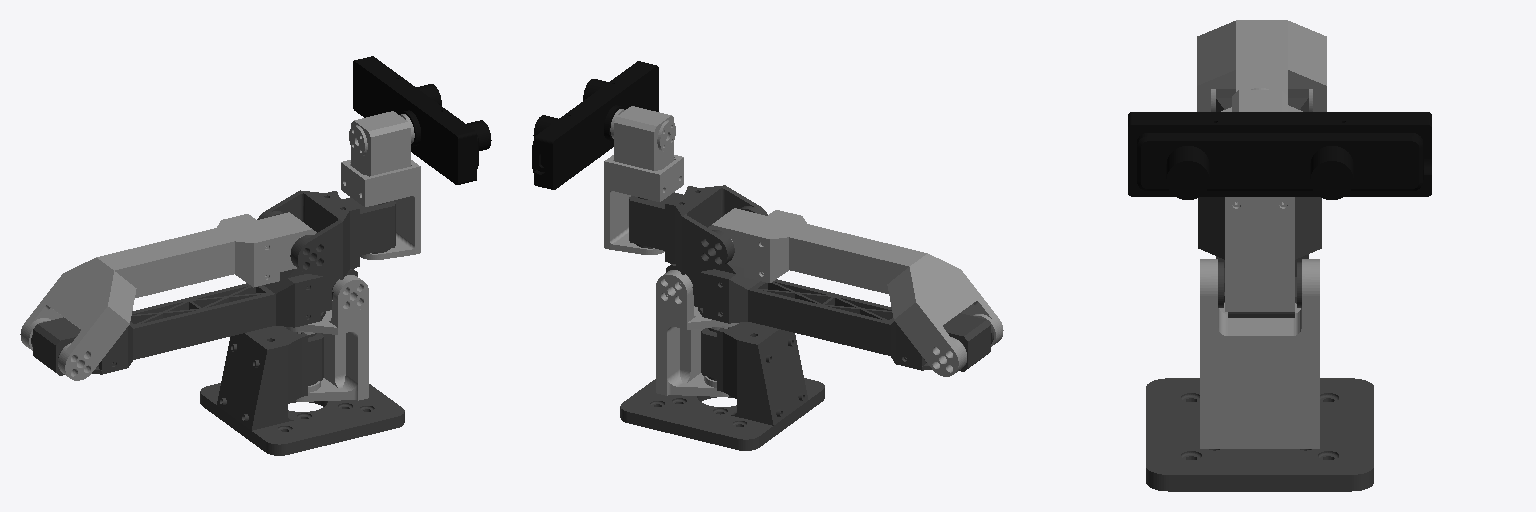
URDF robot description (CamBot):
<?xml version="1.0" encoding="utf-8"?>
<robot name="CamBot">

  <!-- ==================== Materials ==================== -->
  <material name="dark_grey">
    <color rgba="0.3 0.3 0.3 1.0"/>
  </material>
  <material name="light_grey">
    <color rgba="0.6 0.6 0.6 1.0"/>
  </material>
  <material name="black">
    <color rgba="0.1 0.1 0.1 1.0"/>
  </material>

  <!-- ==================== Links ==================== -->

  <!-- Baseplate: world origin (0, 0, 0) -->
  <link name="base_link">
    <visual>
      <origin xyz="0 0 0" rpy="0 0 0"/>
      <geometry>
        <mesh filename="meshes/Baseplate.stl"/>
      </geometry>
      <material name="dark_grey"/>
    </visual>
  </link>

  <!-- Link1: world pos (0, 0, 0.03820) -->
  <link name="link1">
    <visual>
      <origin xyz="0 0 -0.03820" rpy="0 0 0"/>
      <geometry>
        <mesh filename="meshes/Link1.stl"/>
      </geometry>
      <material name="light_grey"/>
    </visual>
  </link>

  <!-- Link2: world pos (0.02220, 0, 0.08370) -->
  <link name="link2">
    <visual>
      <origin xyz="-0.02220 0 -0.08370" rpy="0 0 0"/>
      <geometry>
        <mesh filename="meshes/Link2.stl"/>
      </geometry>
      <material name="dark_grey"/>
    </visual>
  </link>

  <!-- Link3: world pos (-0.17780, 0, 0.08370) -->
  <link name="link3">
    <visual>
      <origin xyz="0.17780 0 -0.08370" rpy="0 0 0"/>
      <geometry>
        <mesh filename="meshes/Link3.stl"/>
      </geometry>
      <material name="light_grey"/>
    </visual>
  </link>

  <!-- Link4: world pos (-0.00780, 0, 0.11870) -->
  <link name="link4">
    <visual>
      <origin xyz="0.00780 0 -0.11870" rpy="0 0 0"/>
      <geometry>
        <mesh filename="meshes/Link4.stl"/>
      </geometry>
      <material name="dark_grey"/>
    </visual>
  </link>

  <!-- Link5: world pos (0.05300, 0, 0.11870) -->
  <link name="link5">
    <visual>
      <origin xyz="-0.05300 0 -0.11870" rpy="0 0 0"/>
      <geometry>
        <mesh filename="meshes/Link5.stl"/>
      </geometry>
      <material name="light_grey"/>
    </visual>
  </link>

  <!-- ZED Mini mount: world pos (0.05800, 0, 0.17720) -->
  <link name="zed_mini_mount">
    <visual>
      <origin xyz="-0.05800 0 -0.17720" rpy="0 0 0"/>
      <geometry>
        <mesh filename="meshes/ZedMiniMount.stl"/>
      </geometry>
      <material name="black"/>
    </visual>
  </link>

  <!-- Camera links (no visual geometry, just reference frames) -->
  <link name="right_camera_link"/>
  <link name="left_camera_link"/>
  <link name="right_camera_optical_frame"/>
  <link name="left_camera_optical_frame"/>

  <!-- ==================== Joints ==================== -->

  <!-- Joint 1: base_link -> link1, vertical rotation (Z axis) -->
  <!-- Relative: (0, 0, 0.03820) - (0, 0, 0) = (0, 0, 0.03820) -->
  <joint name="base_yaw" type="revolute">
    <parent link="base_link"/>
    <child link="link1"/>
    <origin xyz="0 0 0.03820" rpy="0 0 0"/>
    <axis xyz="0 0 -1"/>
    <limit lower="-1.2747" upper="1.3346" effort="1.5" velocity="3.0"/>
  </joint>

  <!-- Joint 2: link1 -> link2, horizontal rotation (Y axis) -->
  <!-- Relative: (0.02220, 0, 0.08370) - (0, 0, 0.03820) = (0.02220, 0, 0.04550) -->
  <joint name="shoulder_pitch" type="revolute">
    <parent link="link1"/>
    <child link="link2"/>
    <origin xyz="0.02220 0 0.04550" rpy="0 0 0"/>
    <axis xyz="0 -1 0"/>
    <limit lower="-3.4392" upper="0.0936" effort="1.5" velocity="3.0"/>
  </joint>

  <!-- Joint 3: link2 -> link3, horizontal rotation (Y axis) -->
  <!-- Relative: (-0.17780, 0, 0.08370) - (0.02220, 0, 0.08370) = (-0.20000, 0, 0) -->
  <joint name="elbow_pitch" type="revolute">
    <parent link="link2"/>
    <child link="link3"/>
    <origin xyz="-0.20000 0 0" rpy="0 0 0"/>
    <axis xyz="0 1 0"/>
    <limit lower="-4.2599" upper="0.0353" effort="1.5" velocity="3.0"/>
  </joint>

  <!-- Joint 4: link3 -> link4, horizontal rotation (Y axis) -->
  <!-- Relative: (-0.00780, 0, 0.11870) - (-0.17780, 0, 0.08370) = (0.17000, 0, 0.03500) -->
  <joint name="wrist_pitch" type="revolute">
    <parent link="link3"/>
    <child link="link4"/>
    <origin xyz="0.17000 0 0.03500" rpy="0 0 0"/>
    <axis xyz="0 1 0"/>
    <limit lower="-1.9666" upper="1.6782" effort="1.5" velocity="3.0"/>
  </joint>

  <!-- Joint 5: link4 -> link5, vertical rotation (Z axis) -->
  <!-- Relative: (0.05300, 0, 0.11870) - (-0.00780, 0, 0.11870) = (0.06080, 0, 0) -->
  <joint name="wrist_yaw" type="revolute">
    <parent link="link4"/>
    <child link="link5"/>
    <origin xyz="0.06080 0 0" rpy="0 0 0"/>
    <axis xyz="0 0 -1"/>
    <limit lower="-1.8699" upper="1.8438" effort="1.5" velocity="3.0"/>
  </joint>

  <!-- Joint 6: link5 -> zed_mini_mount, rotation around X axis -->
  <!-- Relative: (0.05800, 0, 0.17720) - (0.05300, 0, 0.11870) = (0.00500, 0, 0.05850) -->
  <joint name="camera_roll" type="revolute">
    <parent link="link5"/>
    <child link="zed_mini_mount"/>
    <origin xyz="0.00500 0 0.05850" rpy="0 0 0"/>
    <axis xyz="-1 0 0"/>
    <limit lower="-3.2030" upper="3.1339" effort="1.5" velocity="3.0"/>
  </joint>

  <!-- ==================== Camera Joints (fixed) ==================== -->

  <!-- Right camera: world (0.114507, -0.03150, 0.177188) relative to zed_mount (0.05800, 0, 0.17720) -->
  <joint name="right_camera_joint" type="fixed">
    <parent link="zed_mini_mount"/>
    <child link="right_camera_link"/>
    <origin xyz="0.056507 -0.03150 0" rpy="0 0 0"/>
  </joint>

  <!-- Left camera: world (0.114507, 0.03150, 0.177188) relative to zed_mount (0.05800, 0, 0.17720) -->
  <joint name="left_camera_joint" type="fixed">
    <parent link="zed_mini_mount"/>
    <child link="left_camera_link"/>
    <origin xyz="0.056507 0.03150 0" rpy="0 0 0"/>
  </joint>

  <!-- Optical frames: rotated so +Z = forward (optical axis), +X = right, +Y = down -->
  <joint name="right_camera_optical_joint" type="fixed">
    <parent link="right_camera_link"/>
    <child link="right_camera_optical_frame"/>
    <origin xyz="0 0 0" rpy="-1.5707963267948966 0 -1.5707963267948966"/>
  </joint>

  <joint name="left_camera_optical_joint" type="fixed">
    <parent link="left_camera_link"/>
    <child link="left_camera_optical_frame"/>
    <origin xyz="0 0 0" rpy="-1.5707963267948966 0 -1.5707963267948966"/>
  </joint>

</robot>

--- What the picture shows (computed from the rendered views, not written in the file) ---
Views: 3 orthographic renders of the robot side by side, from view 1: azimuth 30°, elevation 25°; view 2: azimuth 150°, elevation 25°; view 3: azimuth 270°, elevation 25°.
Robot: CamBot — 11 links, 10 joints (6 revolute, 4 fixed); root link base_link; default pose: every joint at zero.
Visible links, largest first — view 1: link3, base_link, link2, zed_mini_mount, link5, link4, link1; view 2: link3, base_link, link2, zed_mini_mount, link5, link4, link1; view 3: zed_mini_mount, link1, base_link, link3, link5, link4, link2.
Boxes of the visible links, bbox=[...] form: link3: bbox=[20, 212, 316, 380]; base_link: bbox=[200, 326, 404, 455]; link2: bbox=[31, 268, 357, 375]; zed_mini_mount: bbox=[353, 56, 491, 184]; link5: bbox=[341, 111, 420, 259]; link4: bbox=[257, 190, 395, 279]; link1: bbox=[285, 275, 368, 401]; link3: bbox=[708, 208, 1003, 376]; base_link: bbox=[620, 322, 824, 450]; link2: bbox=[666, 264, 993, 371]; zed_mini_mount: bbox=[532, 61, 658, 189]; link5: bbox=[604, 106, 683, 254]; link4: bbox=[629, 185, 767, 274]; link1: bbox=[656, 270, 738, 396]; zed_mini_mount: bbox=[1128, 112, 1431, 199]; link1: bbox=[1200, 259, 1319, 448]; base_link: bbox=[1146, 302, 1373, 491]; link3: bbox=[1197, 20, 1326, 111]; link5: bbox=[1225, 88, 1294, 311]; link4: bbox=[1198, 197, 1321, 259]; link2: bbox=[1216, 89, 1308, 317].
Size in the robot's own frame: 304 by 133 by 198 metres.
Meshes: 7 distinct files referenced, 7 mesh visuals loaded (7 binary STL).
